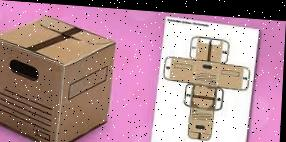cube: (0, 14, 116, 142)
